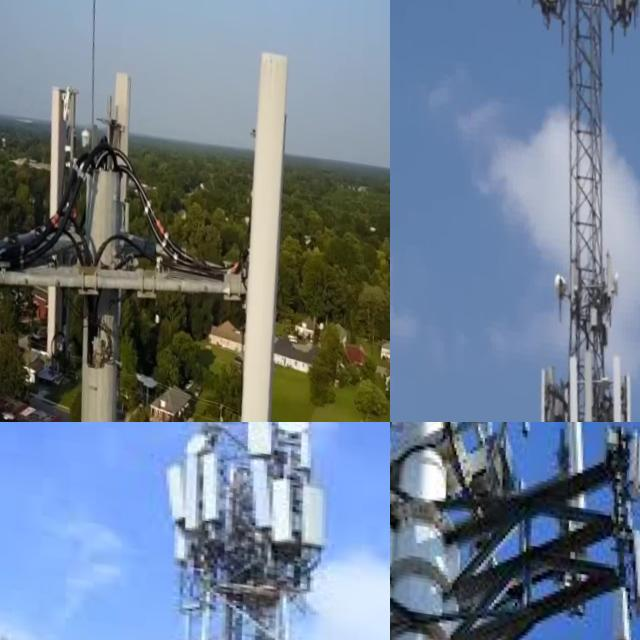GSM Antenna: (17, 76, 98, 363), (232, 47, 289, 422), (252, 471, 296, 546), (190, 447, 233, 522), (235, 450, 274, 528), (176, 451, 213, 529), (294, 477, 331, 550), (153, 461, 196, 522), (615, 512, 640, 608), (551, 348, 580, 422), (569, 342, 595, 422), (600, 582, 635, 640), (597, 348, 624, 422), (237, 422, 281, 463), (552, 422, 584, 474), (607, 364, 634, 422), (526, 364, 548, 422), (595, 245, 614, 305)
Microwave Antenna: (541, 264, 568, 304), (601, 265, 621, 297), (187, 430, 207, 453), (275, 422, 313, 433)
